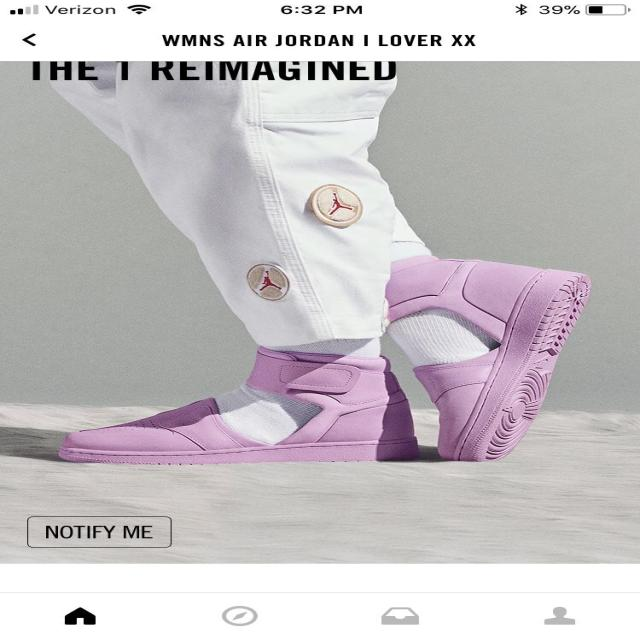shoe: (49, 321, 398, 491), (361, 246, 603, 469)
